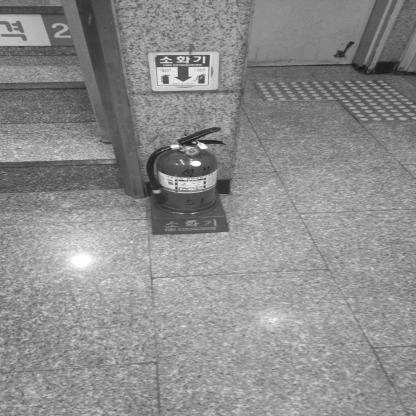FE: (147, 125, 228, 235)
